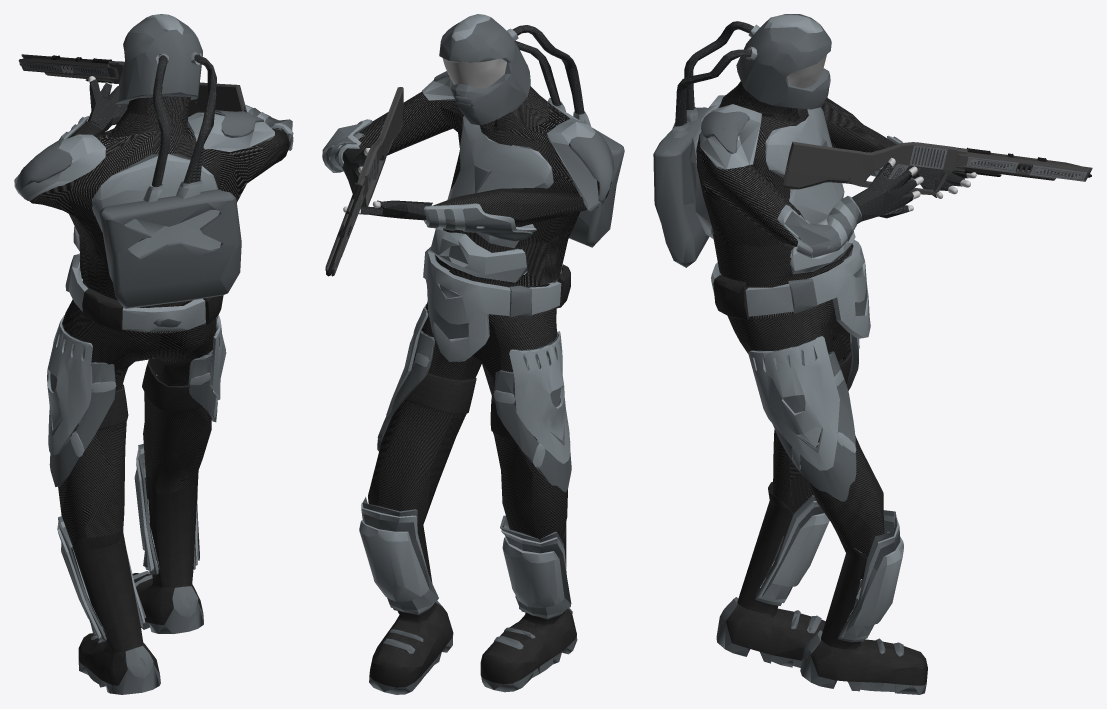
The model's file is AndarEscopeta.0016.obj.
3 views of the same model, side by side, from view 1: azimuth 30°, elevation 25°; view 2: azimuth 150°, elevation 25°; view 3: azimuth 270°, elevation 25° (orthographic). The views are drawn at different scales.
Visible parts, largest first — view 1: personaje:extrudedSurface2 polySurface122, personaje:PANTALON polySurface122, personaje:bota1 polySurface122, personaje:CAMISETABUENA polySurface122, personaje:pPipe4 polySurface122, personaje:pCube4 polySurface122, personaje:cosoarmdaurapierna1 polySurface122, personaje:cinturon polySurface122, escopeta:Cylinder001 polySurface122, personaje:armadbota1 polySurface122, personaje:polySurface6 polySurface122, personaje:HOMBRO2 polySurface122 (+3 smaller); view 2: personaje:PANTALON polySurface122, personaje:CAMISETABUENA polySurface122, personaje:pPipe4 polySurface122, personaje:bota1 polySurface122, personaje:extrudedSurface2 polySurface122, personaje:armadbota1 polySurface122, personaje:cinturon polySurface122, personaje:pCube4 polySurface122, personaje:cosoarmdaurapierna1 polySurface122, escopeta:Cylinder001 polySurface122, personaje:polySurface6 polySurface122, personaje:polySurface2 polySurface122 (+7 smaller); view 3: personaje:bota1 polySurface122, personaje:CAMISETABUENA polySurface122, personaje:extrudedSurface2 polySurface122, personaje:pPipe4 polySurface122, personaje:pCube4 polySurface122, personaje:PANTALON polySurface122, escopeta:Cylinder001 polySurface122, personaje:cinturon polySurface122, personaje:armadbota1 polySurface122, personaje:cosoarmadurapierna2 polySurface122, personaje:hombro1 polySurface122, personaje:partearmdBRAZO2 polySurface122 (+1 smaller).
Boxes of the visible parts, x1,y1,x2,y2 form: personaje:extrudedSurface2 polySurface122: [99, 14, 241, 308]; personaje:PANTALON polySurface122: [58, 280, 216, 546]; personaje:bota1 polySurface122: [72, 471, 203, 694]; personaje:CAMISETABUENA polySurface122: [26, 96, 289, 333]; personaje:pPipe4 polySurface122: [14, 79, 292, 251]; personaje:pCube4 polySurface122: [49, 300, 226, 641]; personaje:cosoarmdaurapierna1 polySurface122: [47, 315, 116, 457]; personaje:cinturon polySurface122: [65, 253, 223, 331]; escopeta:Cylinder001 polySurface122: [18, 54, 246, 114]; personaje:armadbota1 polySurface122: [57, 448, 197, 638]; personaje:polySurface6 polySurface122: [97, 360, 202, 430]; personaje:HOMBRO2 polySurface122: [16, 138, 72, 190]; personaje:PANTALON polySurface122: [368, 271, 567, 540]; personaje:CAMISETABUENA polySurface122: [339, 60, 611, 317]; personaje:pPipe4 polySurface122: [322, 76, 605, 282]; personaje:bota1 polySurface122: [369, 520, 577, 694]; personaje:extrudedSurface2 polySurface122: [439, 14, 624, 247]; personaje:armadbota1 polySurface122: [359, 502, 566, 617]; personaje:cinturon polySurface122: [423, 245, 570, 361]; personaje:pCube4 polySurface122: [361, 304, 571, 619]; personaje:cosoarmdaurapierna1 polySurface122: [493, 331, 570, 468]; escopeta:Cylinder001 polySurface122: [325, 87, 403, 276]; personaje:polySurface6 polySurface122: [405, 374, 515, 442]; personaje:polySurface2 polySurface122: [425, 208, 533, 241]; personaje:bota1 polySurface122: [716, 482, 927, 694]; personaje:CAMISETABUENA polySurface122: [696, 81, 896, 318]; personaje:extrudedSurface2 polySurface122: [653, 14, 831, 267]; personaje:pPipe4 polySurface122: [689, 95, 968, 274]; personaje:pCube4 polySurface122: [748, 334, 900, 642]; personaje:PANTALON polySurface122: [727, 258, 884, 579]; escopeta:Cylinder001 polySurface122: [783, 141, 1092, 195]; personaje:cinturon polySurface122: [711, 240, 870, 338]; personaje:armadbota1 polySurface122: [758, 501, 903, 640]; personaje:cosoarmadurapierna2 polySurface122: [763, 351, 856, 501]; personaje:hombro1 polySurface122: [701, 111, 749, 153]; personaje:partearmdBRAZO2 polySurface122: [777, 196, 861, 258].
Size of the model in its own units: 4.24 by 9.61 by 5.71.
